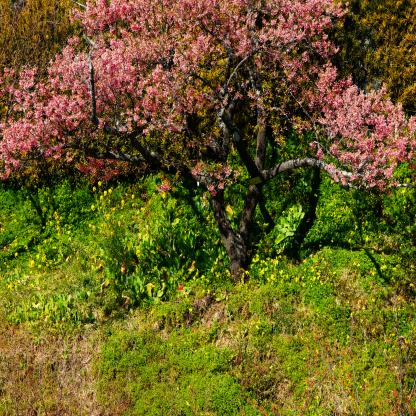KanhiSakura: (0, 0, 415, 196)
